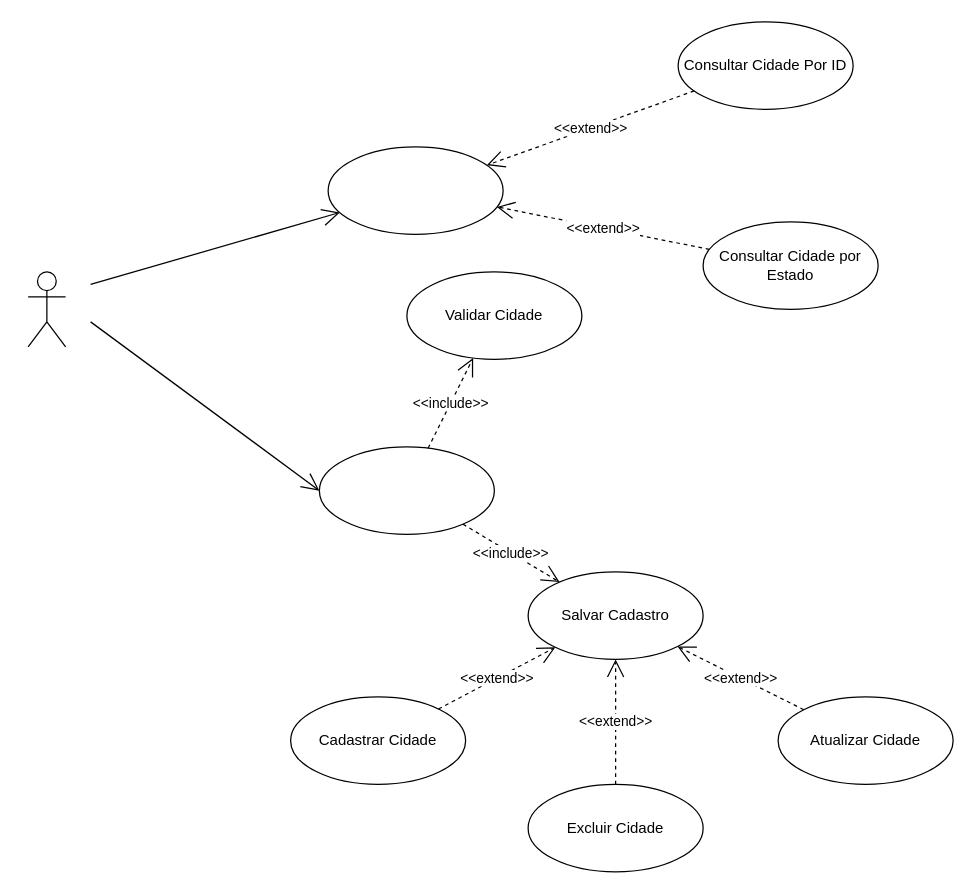
Image size: 975x894. Some labels were removed from this diagram. The shapes that lost their labels are listed below. From the top down, each one's box as (x1, y1, x2, y2) in pixels, then its label:
(327, 146, 503, 234): Consultar Cidade
(27, 271, 66, 347): Usuario
(318, 446, 494, 534): Manter Cadastro da Cidade
